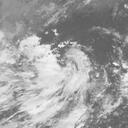cyclone: (29, 45, 92, 108)
